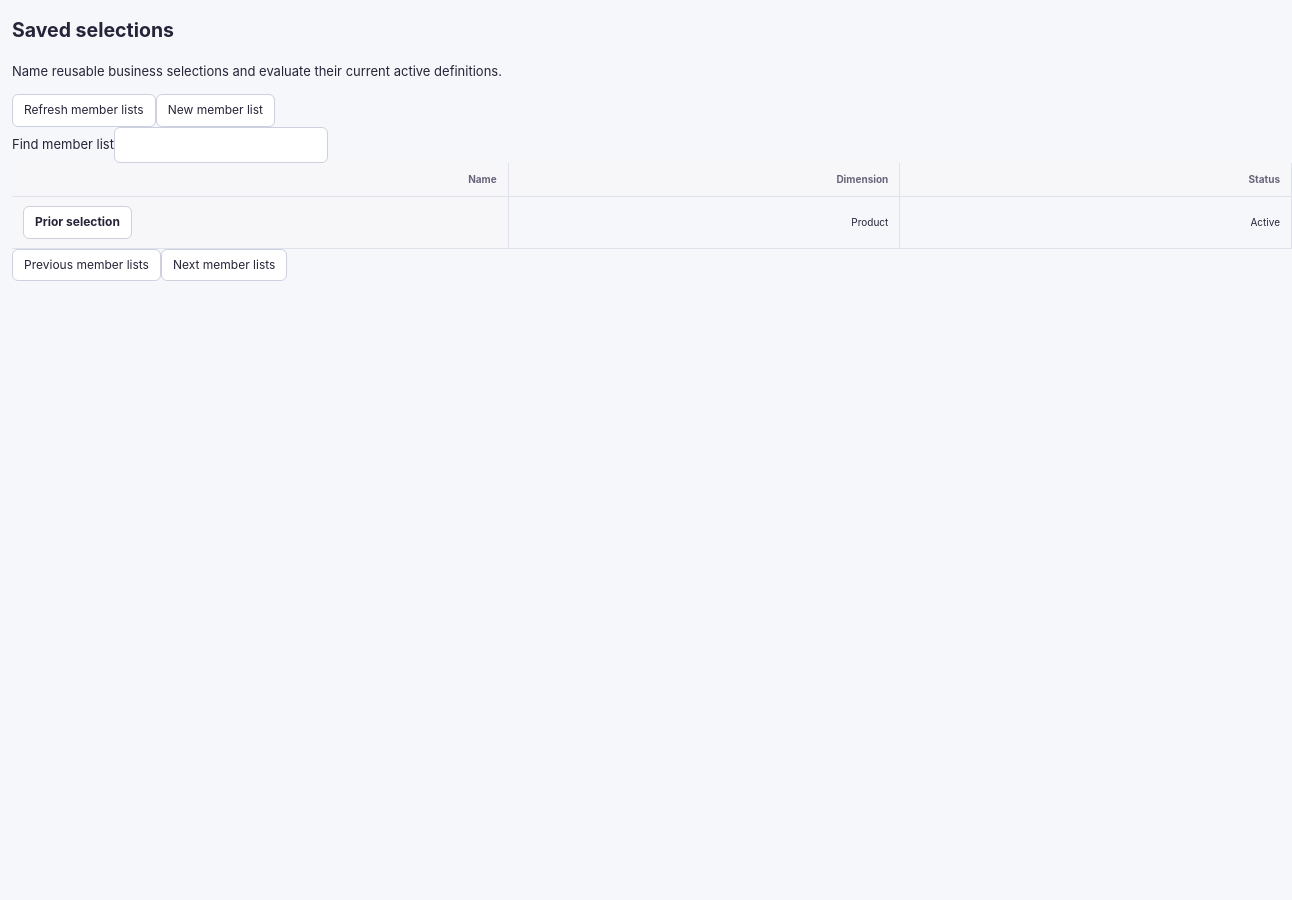
clears saved definitions and evaluated members when a catalogue refresh loses access
Click the button "Prior selection" at (77,222), box [23, 206, 132, 239]
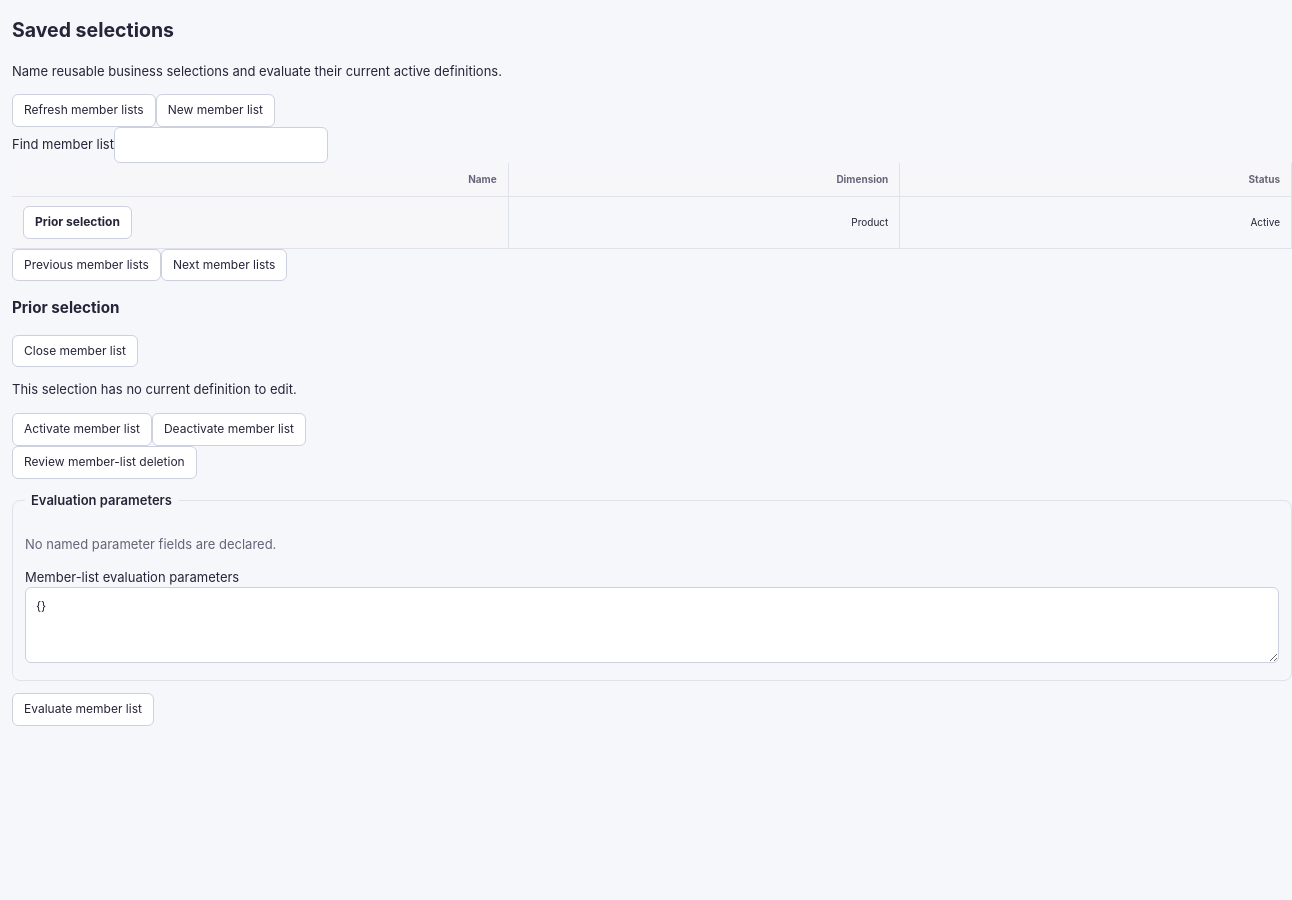
Click the button "Evaluate member list" at (83,710), box [12, 693, 154, 726]
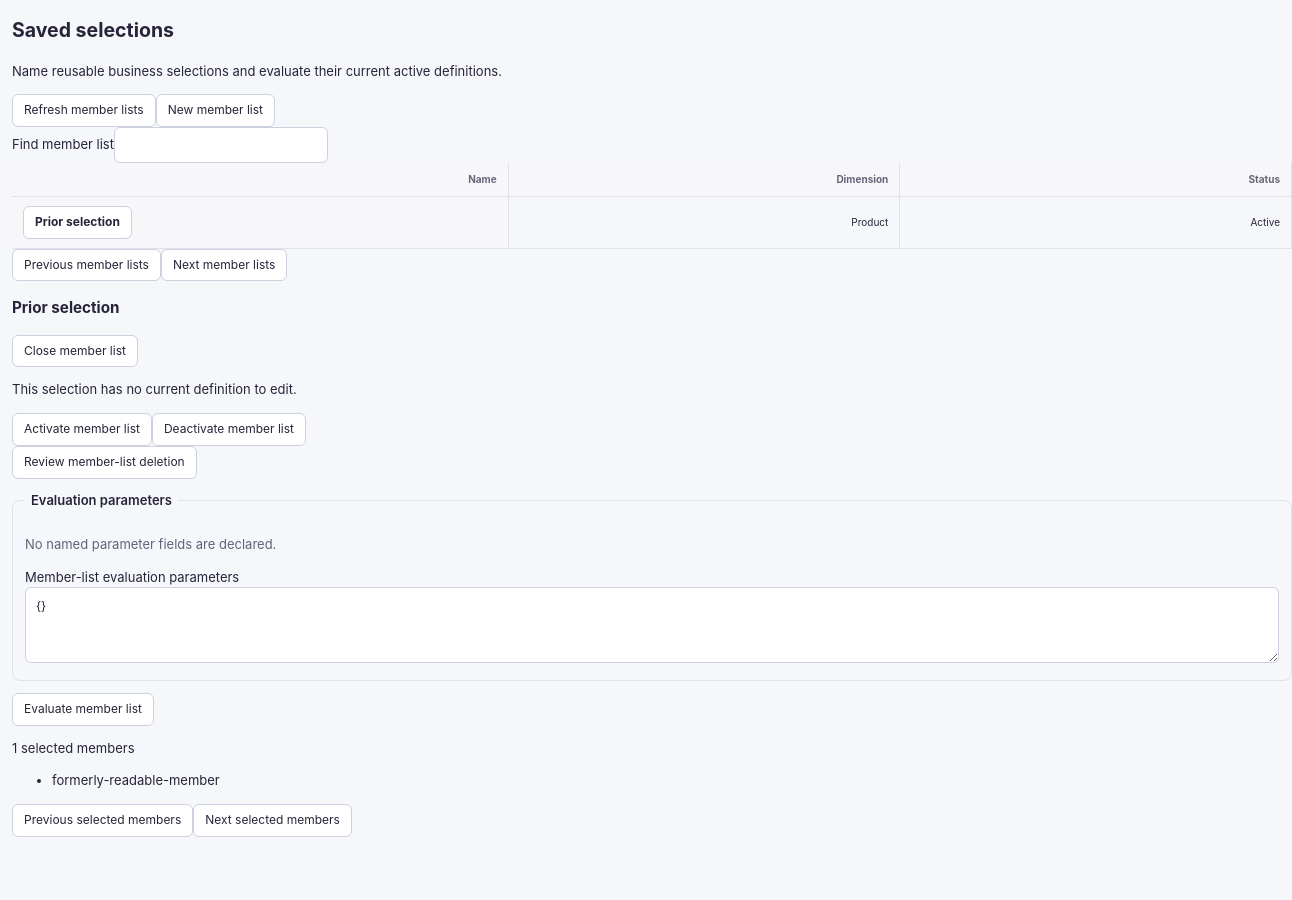
Expected: the list item "formerly-readable-member" is shown, [52, 772, 220, 788]
Click the button "Refresh member lists" at (84,110), box [12, 94, 156, 127]
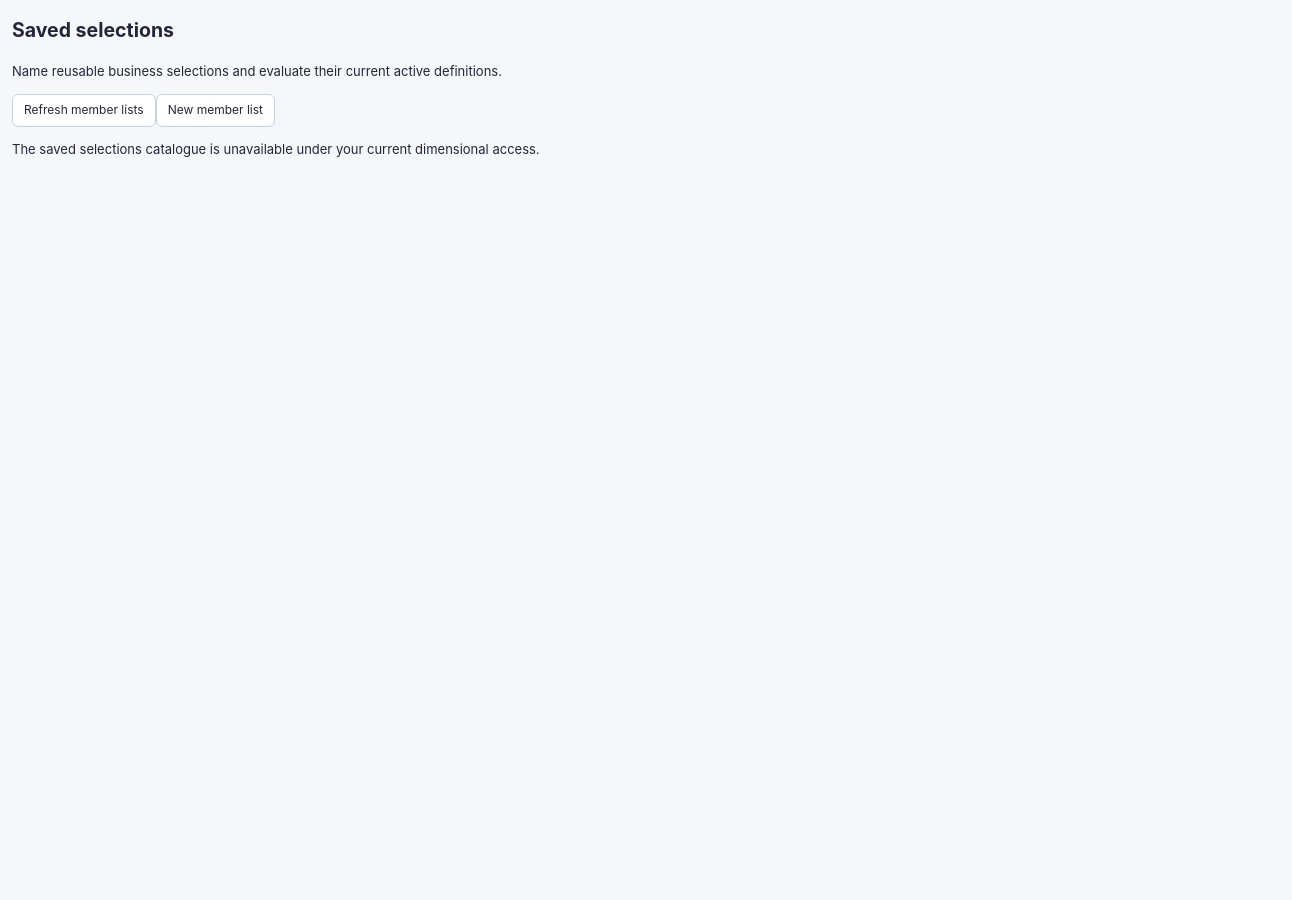
Expected: the message shows "current dimensional access", [12, 141, 540, 157]
Expected: the button "Prior selection" is gone
Expected: the list item "formerly-readable-member" is gone
